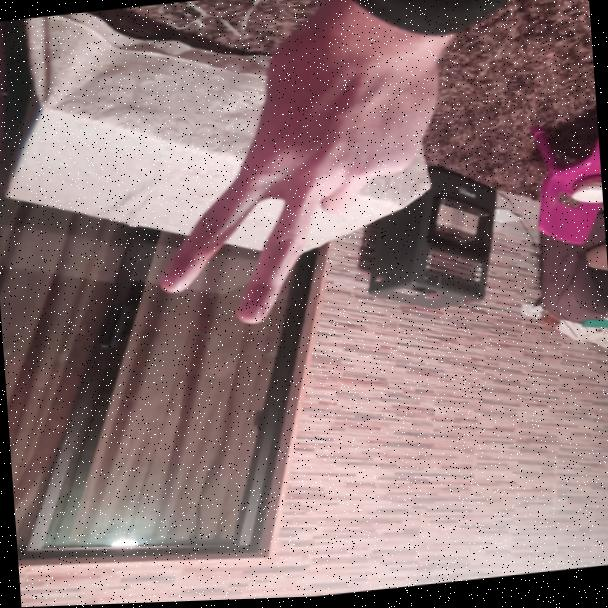two: (140, 27, 416, 332)
